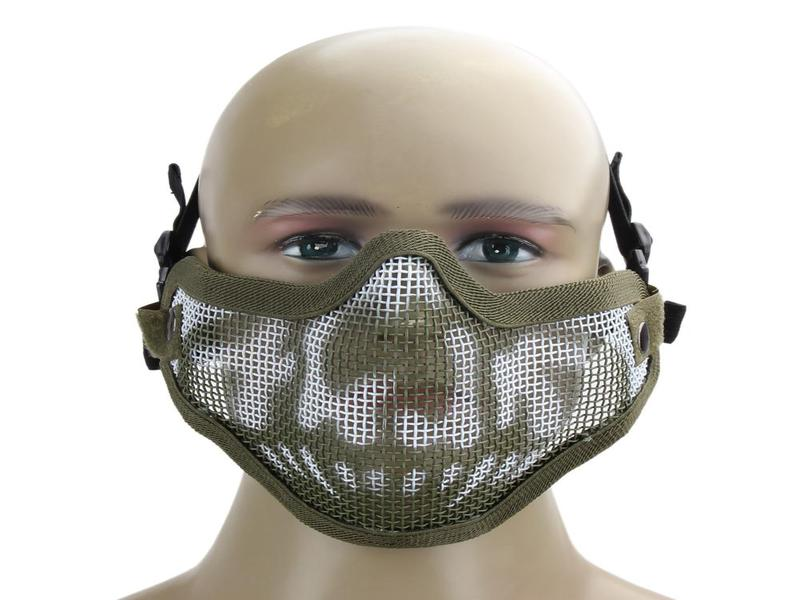with_mask: (131, 24, 689, 555)
